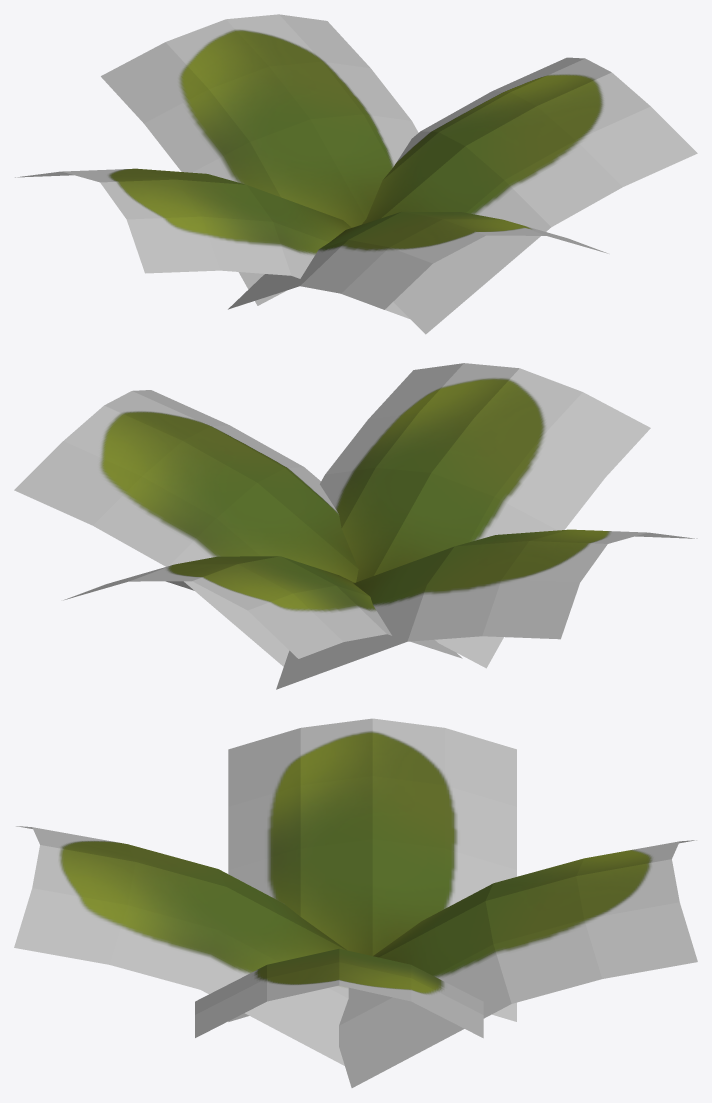
The model's file is Bush_8.fbx.
The picture shows the model from 3 angles, top to bottom: view 1: azimuth 30°, elevation 25°; view 2: azimuth 150°, elevation 25°; view 3: azimuth 270°, elevation 25°; orthographic projection. The views are drawn at different scales.
Visible parts, largest first — view 1: Bush.007; view 2: Bush.007; view 3: Bush.007.
Part boxes in pixels (x1,y1,x2,y2): Bush.007: (15, 14, 697, 334); Bush.007: (14, 363, 697, 689); Bush.007: (14, 718, 697, 1087).
Bounding box in the file's own units: 1215 × 330 × 1215.
